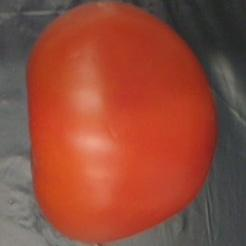unripe: (22, 0, 221, 246)
